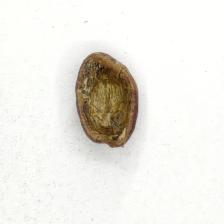NG: (79, 56, 127, 146)
